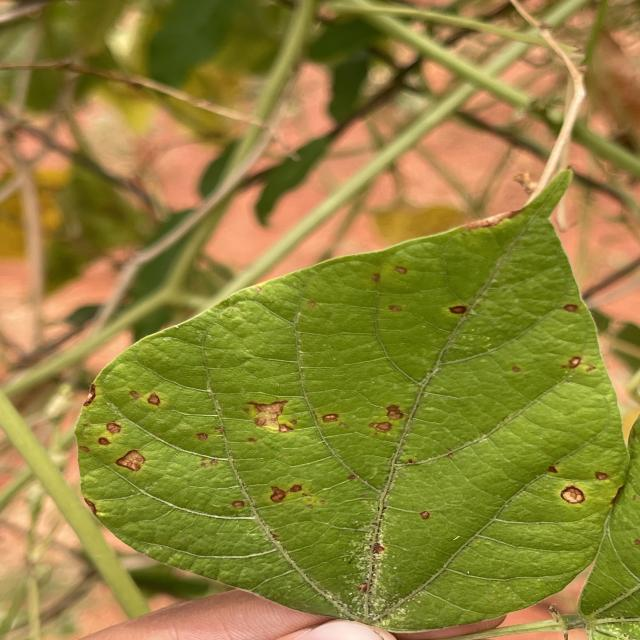Dolicos bean_cercospora leaf spot: (77, 185, 624, 624)
